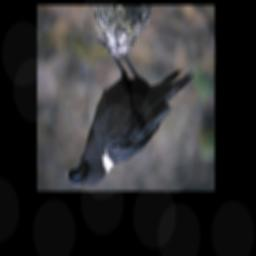Crow: (65, 36, 196, 187)
